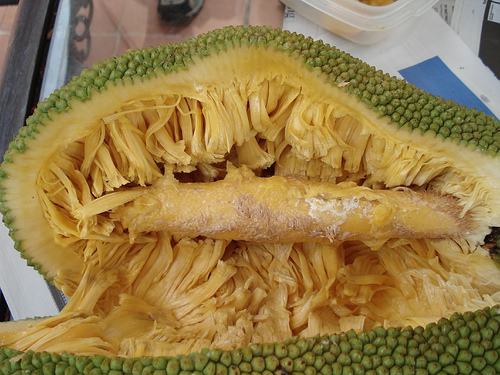jackfruit: (1, 27, 499, 374)
